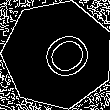O_SW: (24, 22, 91, 87)
